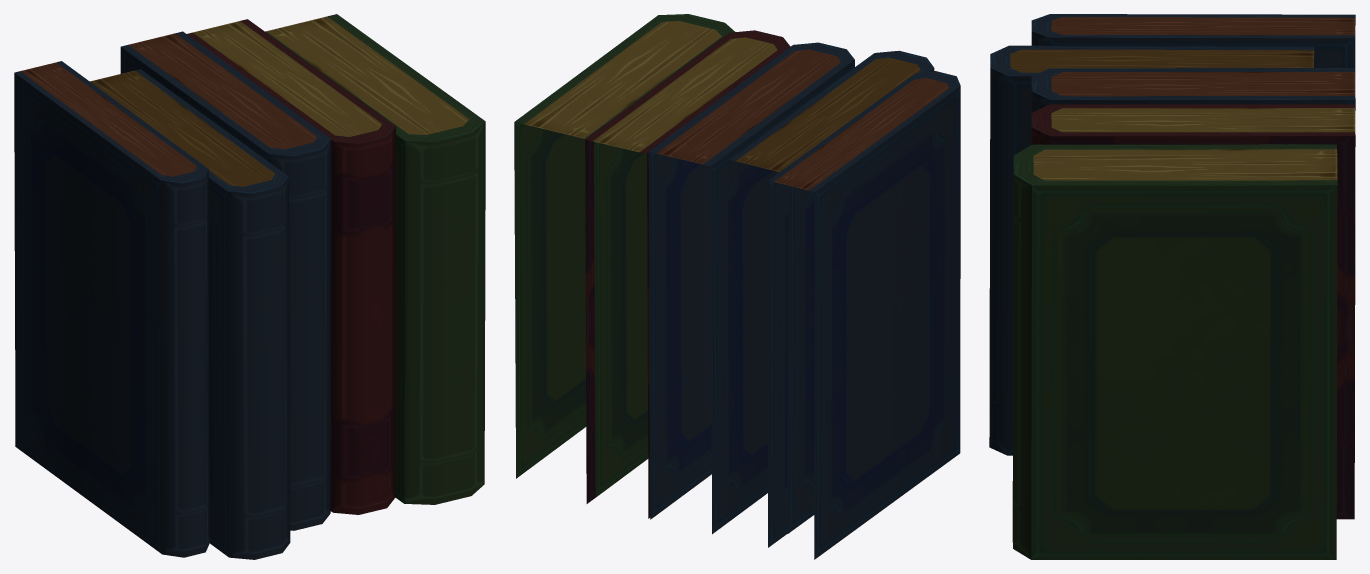
The model's file is bookgroup-small-3.glb.
3 views of the same model, side by side, from view 1: azimuth 30°, elevation 25°; view 2: azimuth 150°, elevation 25°; view 3: azimuth 270°, elevation 25° (orthographic). The views are drawn at different scales.
Parts seen in each view (by area): view 1: BookGroup_Small_3; view 2: BookGroup_Small_3; view 3: BookGroup_Small_3.
Boxes of the visible parts, x1=… form: BookGroup_Small_3: x1=14, y1=14, x2=485, y2=559; BookGroup_Small_3: x1=514, y1=14, x2=960, y2=559; BookGroup_Small_3: x1=989, y1=14, x2=1355, y2=559.
Size of the model in its own units: 0.2448 by 0.2774 by 0.2372.
1 material, 1 textured.
